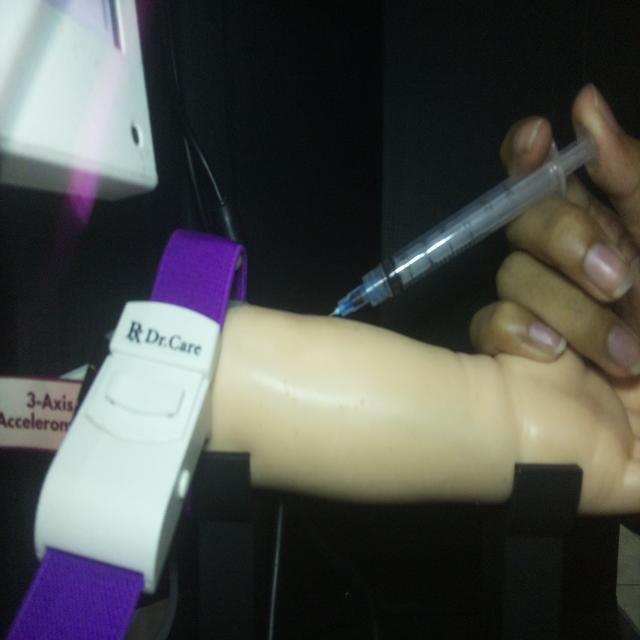25 degrees: (326, 124, 600, 320)
